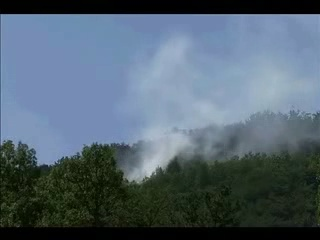smoke: (177, 19, 320, 165), (117, 33, 190, 183)
